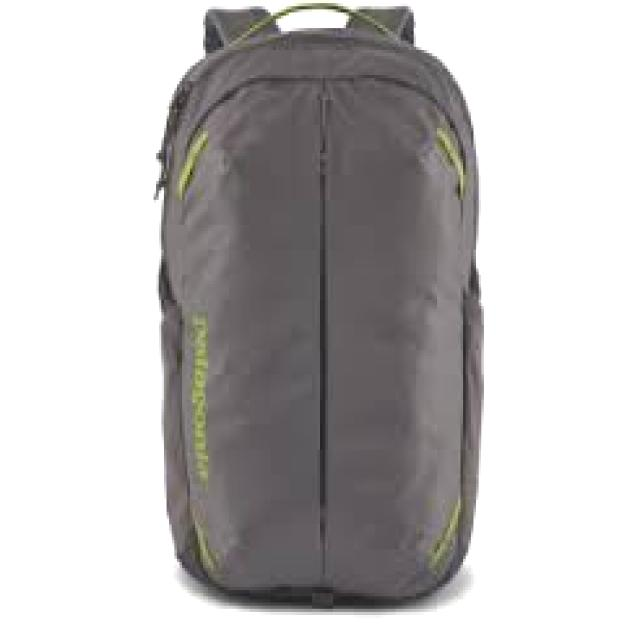backpack: (152, 1, 485, 607)
